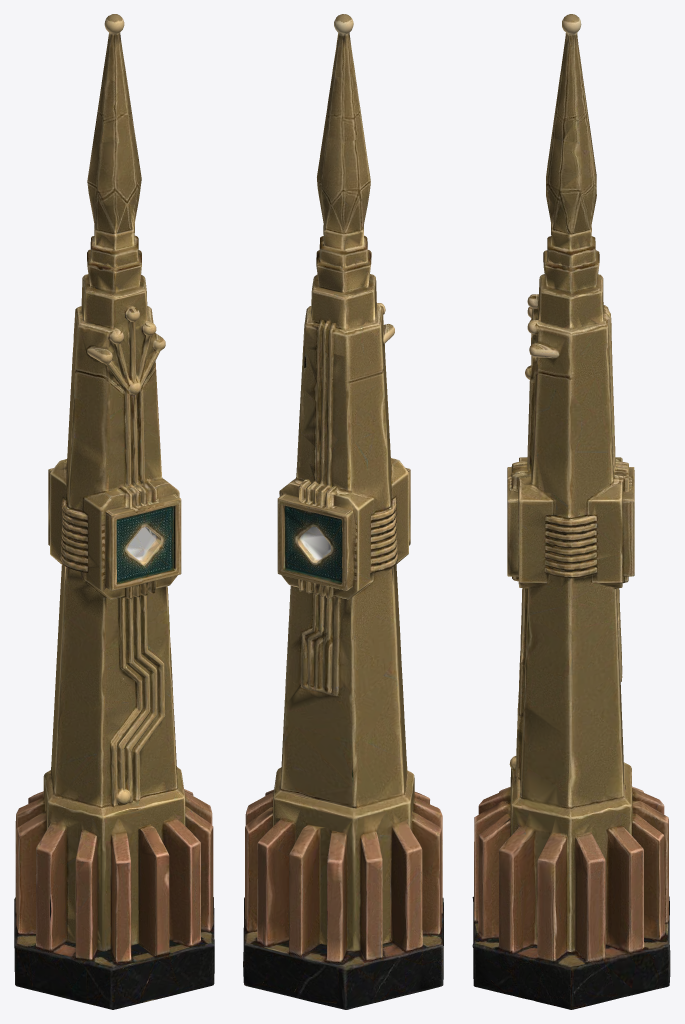
File: pole-finial.glb
3 renders of one model, left to right at view 1: azimuth 30°, elevation 25°; view 2: azimuth 150°, elevation 25°; view 3: azimuth 270°, elevation 25°, orthographic.
Bounding box in the file's own units: 0.4175 × 1.9 × 0.3603.
Materials: 1 (1 with a texture image).
